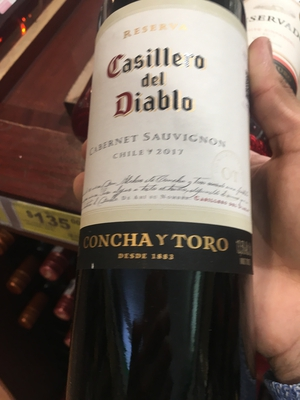casillero del diablo cabernet sauvignon: (79, 4, 253, 393)
